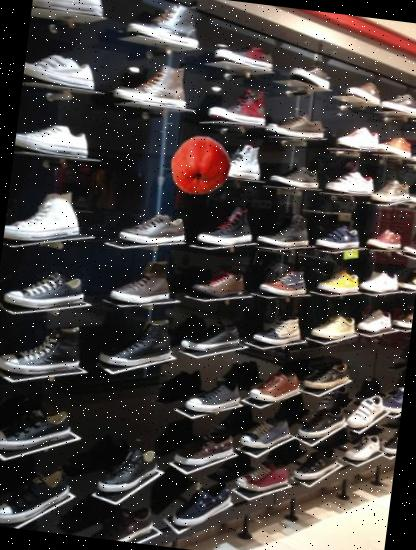Pear: (166, 132, 235, 200)
